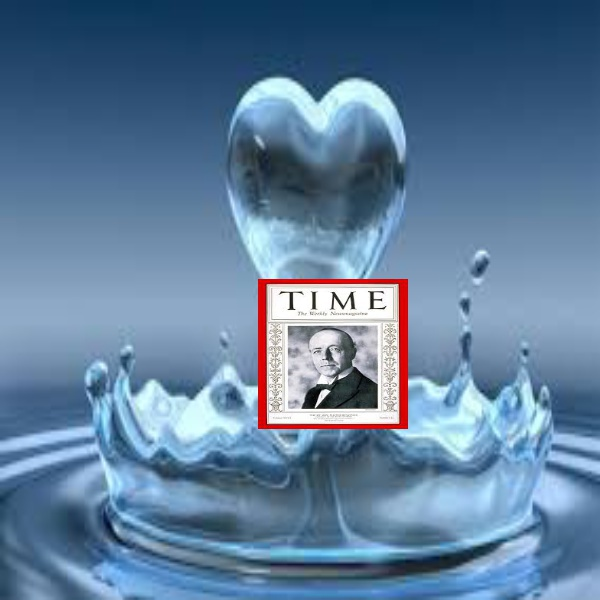time_cover: (254, 272, 405, 438)
